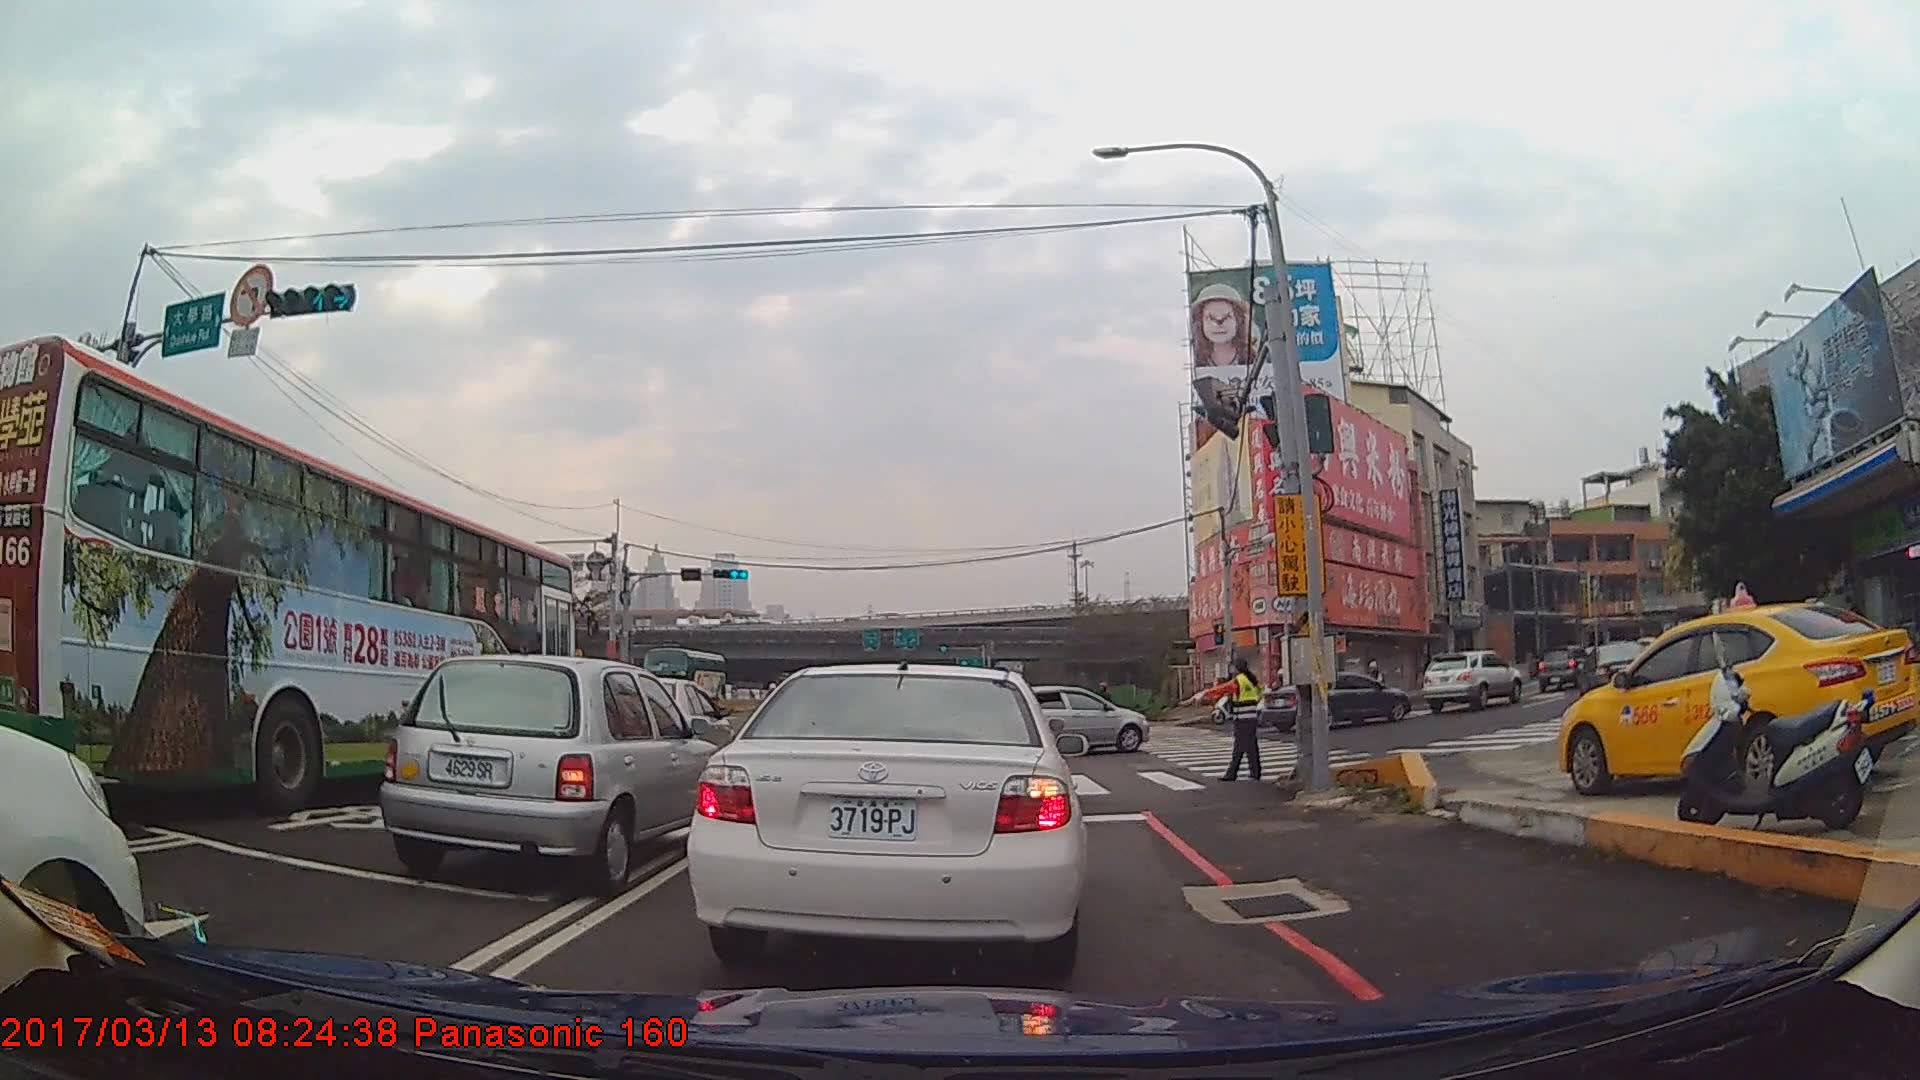pedestrian: (1182, 657, 1266, 789)
vehicle: (0, 330, 575, 810), (683, 659, 1087, 970), (378, 651, 729, 893), (1555, 600, 1918, 797), (979, 684, 1148, 757), (1264, 669, 1409, 733), (1419, 649, 1521, 711), (642, 645, 725, 707), (1578, 639, 1654, 706), (1537, 645, 1592, 691)
